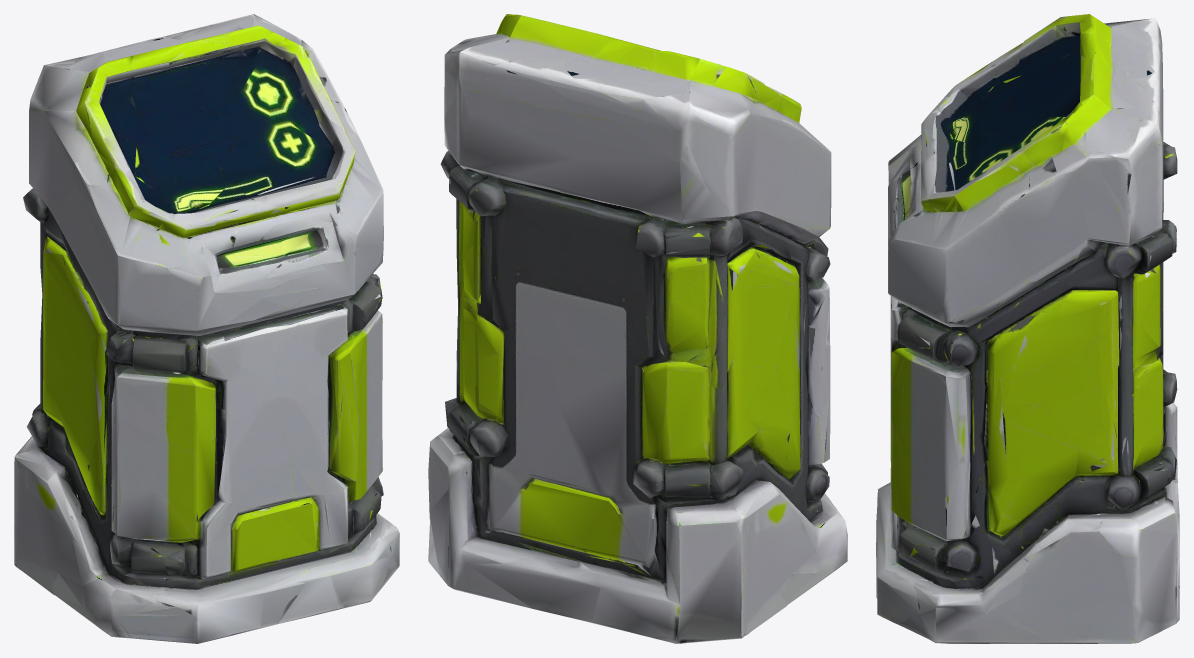
The model's file is console-ai.glb.
3 renders of one model, left to right at view 1: azimuth 30°, elevation 25°; view 2: azimuth 150°, elevation 25°; view 3: azimuth 270°, elevation 25°, orthographic. The views are drawn at different scales.
Size of the model in its own units: 1.15 by 1.9 by 1.01.
Materials: 1 (1 with a texture image).
